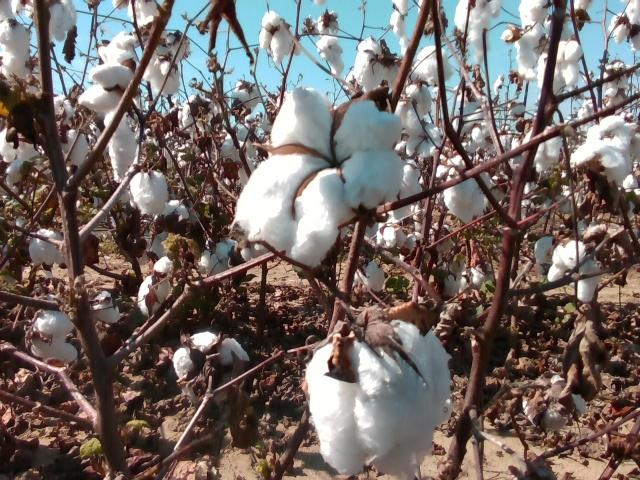cotton_ready: (234, 85, 405, 265), (307, 318, 450, 478), (174, 332, 253, 404), (570, 115, 640, 184), (79, 32, 139, 112), (522, 375, 589, 430), (347, 36, 404, 93), (549, 238, 601, 300), (445, 158, 492, 224), (456, 0, 502, 67), (140, 200, 188, 259), (29, 310, 79, 363), (516, 0, 548, 79), (104, 109, 137, 182), (138, 256, 176, 317), (27, 0, 79, 43), (388, 158, 423, 220), (0, 18, 32, 81), (396, 83, 434, 136), (545, 39, 583, 91), (258, 12, 295, 65), (523, 125, 563, 174), (143, 46, 182, 95), (200, 238, 238, 284), (131, 171, 168, 216), (608, 0, 640, 52), (412, 46, 453, 86), (29, 229, 67, 266), (0, 127, 40, 162), (405, 121, 442, 158), (183, 94, 217, 134), (437, 268, 483, 297), (345, 259, 387, 290), (316, 35, 345, 78), (60, 129, 91, 166), (90, 291, 120, 327), (534, 237, 560, 277), (600, 63, 633, 91), (127, 0, 159, 28), (376, 222, 406, 250), (54, 95, 75, 126)
